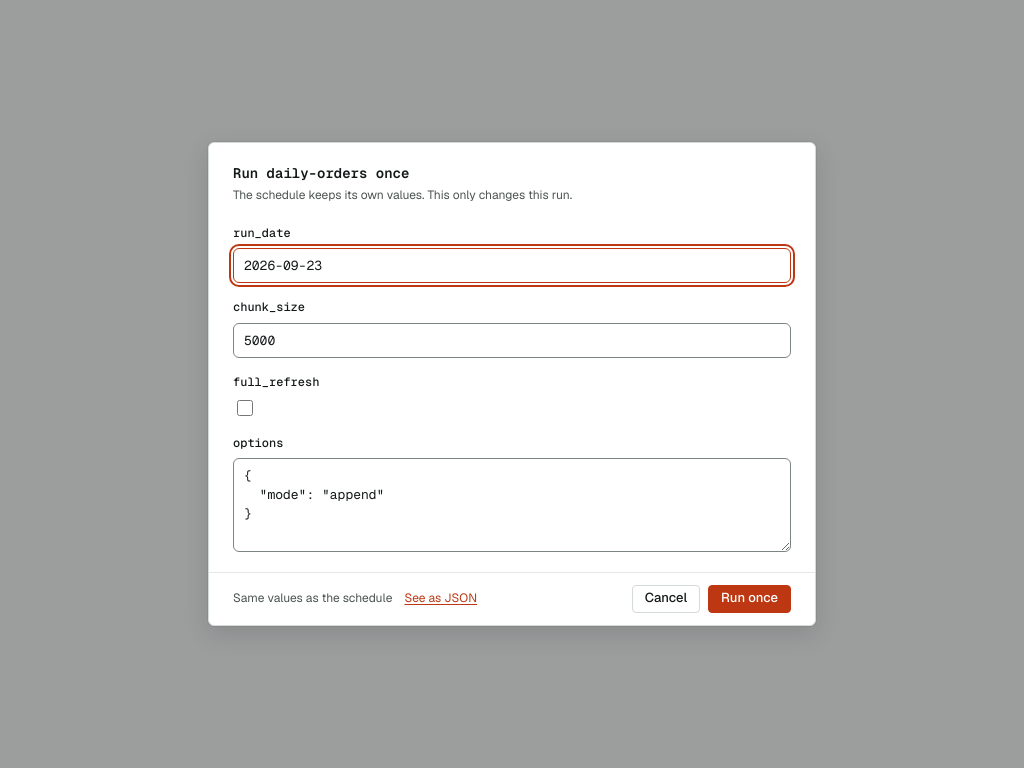
Test: RunDialog › shows the API's refusal and stays open
This screenshot has width=1024, height=768.
Step 1. Click the button "Run once" → (750, 599), box [708,585,791,613]
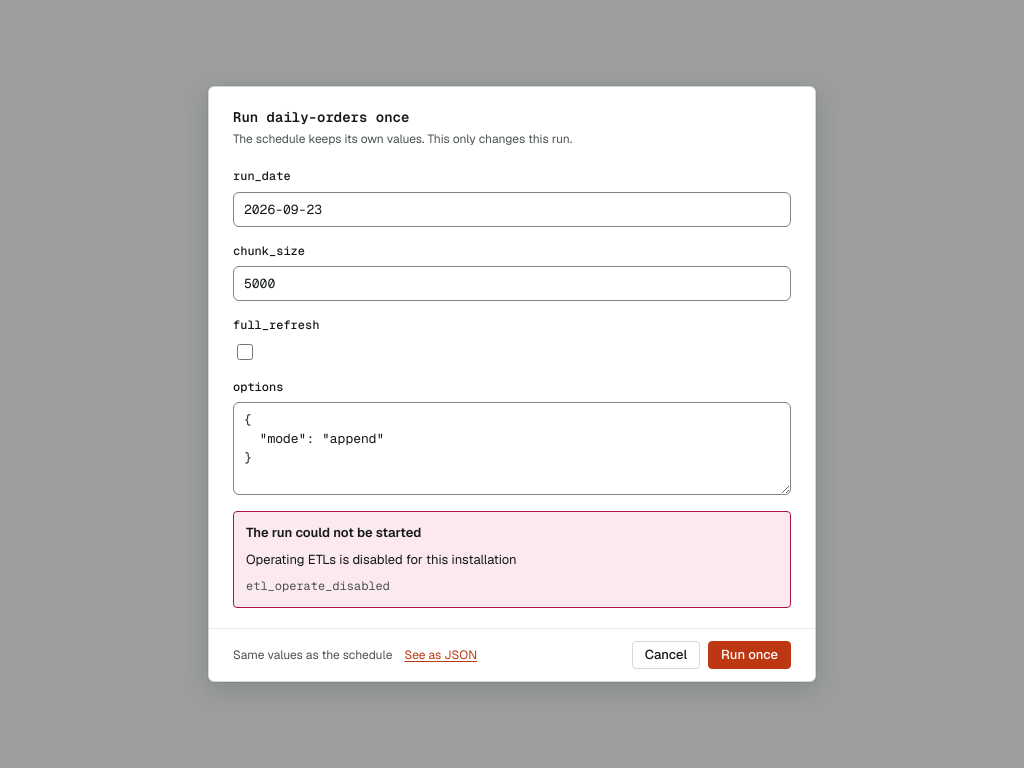
Expected: the dialog "Run daily-orders once" is shown, [208,86,816,682]
Result: the message shows "The run could not be started" at [246,524,421,541]
Result: the message shows "Operating ETLs is disabled for this installation" at [246,551,517,568]
